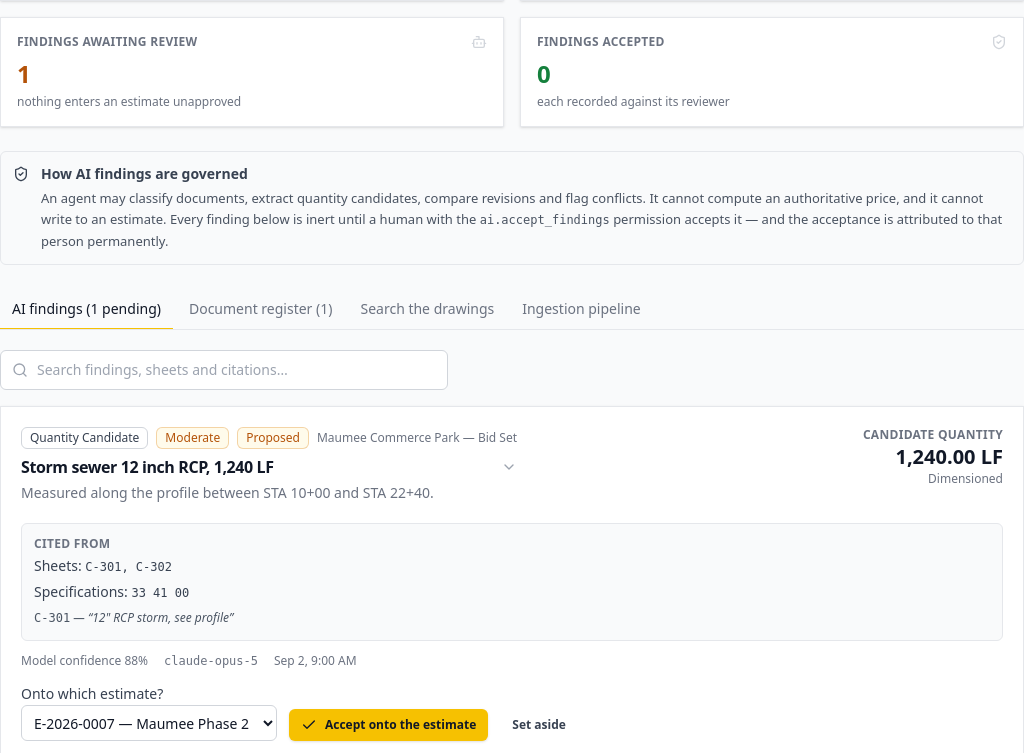
Test case: AI proposes and a human accepts (RULE-008) › puts an accepted finding on the estimate the reviewer chose
(page scrolled)
Click the button "Accept onto the estimate": {"x": 389, "y": 725} [289,709,488,741]
(page scrolled)
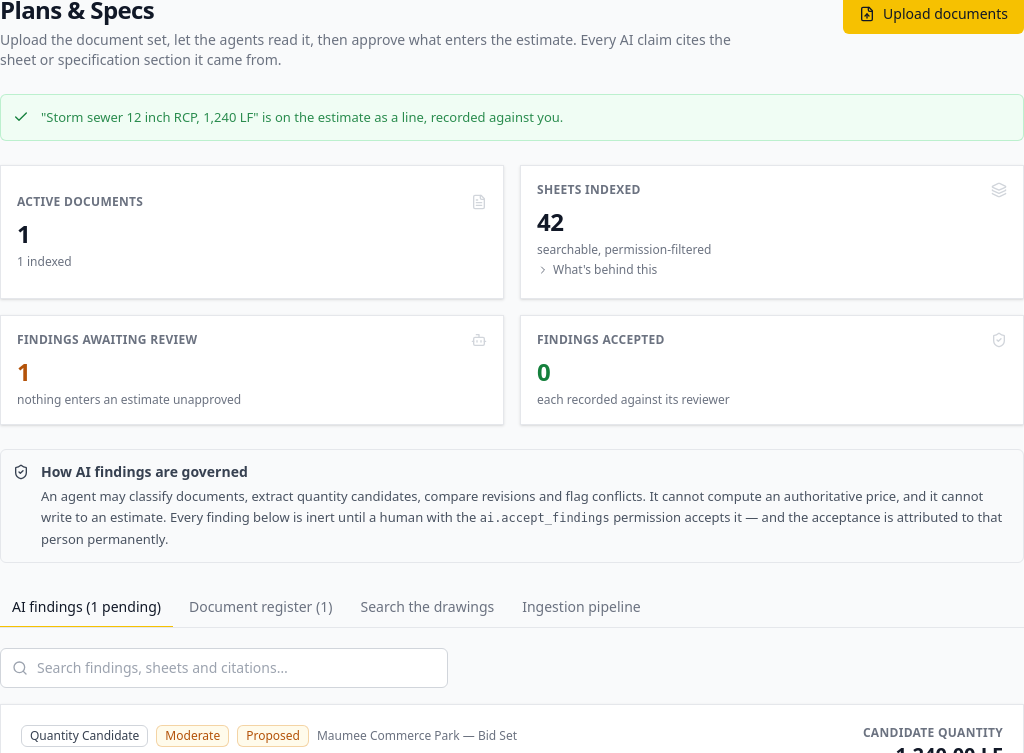
Expected: the text "is on the estimate as a line, recorded against you" is shown, [41,108,563,126]
